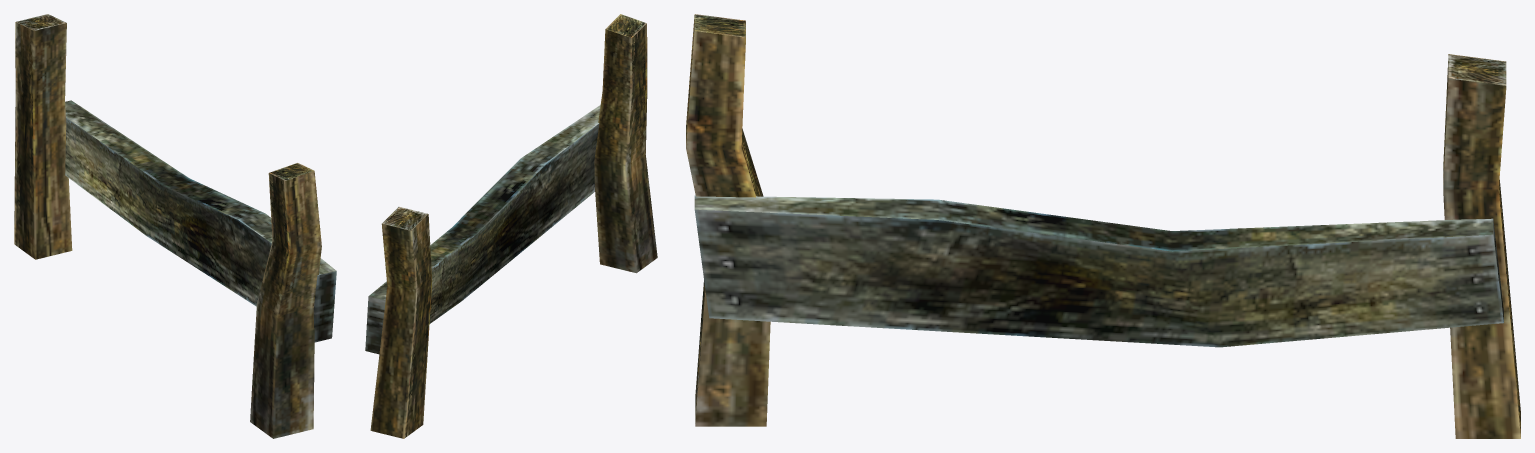
File: most_11.glb
3 views of the same model, side by side, from view 1: azimuth 30°, elevation 25°; view 2: azimuth 150°, elevation 25°; view 3: azimuth 270°, elevation 25° (orthographic). The views are drawn at different scales.
Parts seen in each view (by area): view 1: most_11; view 2: most_11; view 3: most_11.
Boxes of the visible parts, x1,y1,x2,y2 form: most_11: [14, 14, 336, 438]; most_11: [365, 14, 657, 438]; most_11: [686, 14, 1520, 438].
Bounding box in the file's own units: 0.5544 × 1.95 × 3.65.
2 materials, 2 textured.
